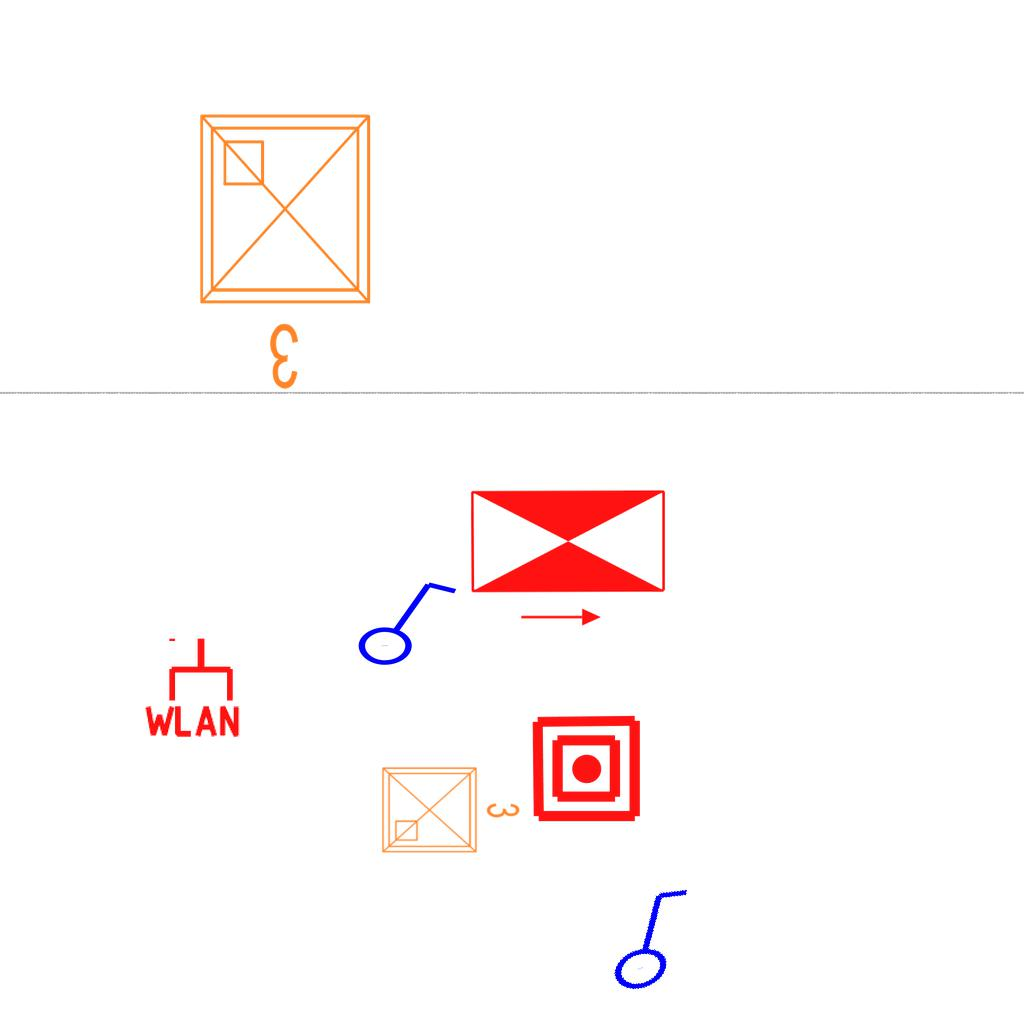Ausschalter: (578, 873, 718, 1003), (347, 572, 459, 668)
Einbaudownlights_LED_Konferenzraeume: (185, 100, 393, 400), (375, 756, 525, 860)
Fluchtwegpiktogramm: (464, 484, 672, 631)
NAM-Nichtautomatischer_Melder: (530, 712, 643, 825)
WLAN: (140, 634, 244, 739)
